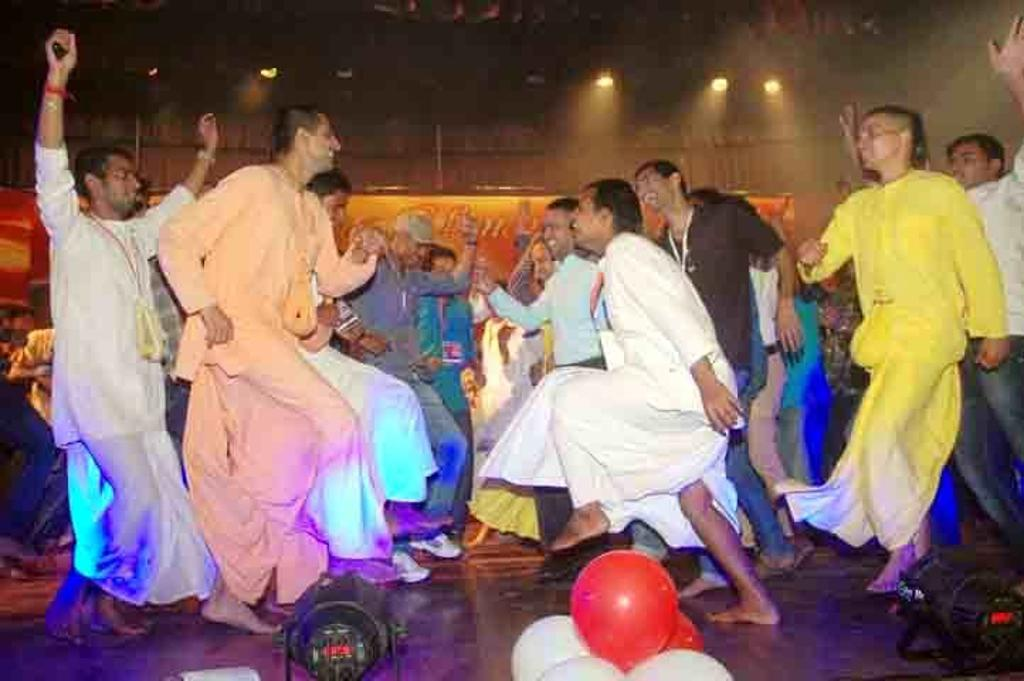face: (103, 155, 144, 214), (857, 118, 901, 172), (311, 115, 345, 173), (570, 189, 602, 249), (947, 147, 985, 190), (541, 207, 570, 259), (635, 173, 670, 215), (427, 257, 458, 302), (316, 193, 350, 232), (531, 249, 561, 284), (405, 235, 427, 268)
